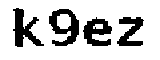9: (47, 7, 79, 48)
e: (82, 17, 112, 48)
k: (9, 4, 43, 48)
z: (116, 16, 146, 49)
